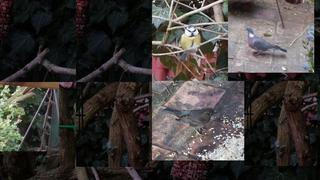blackbird: (162, 108, 218, 138)
blue tit: (178, 25, 201, 61)
wood pigeon: (244, 27, 288, 56)
